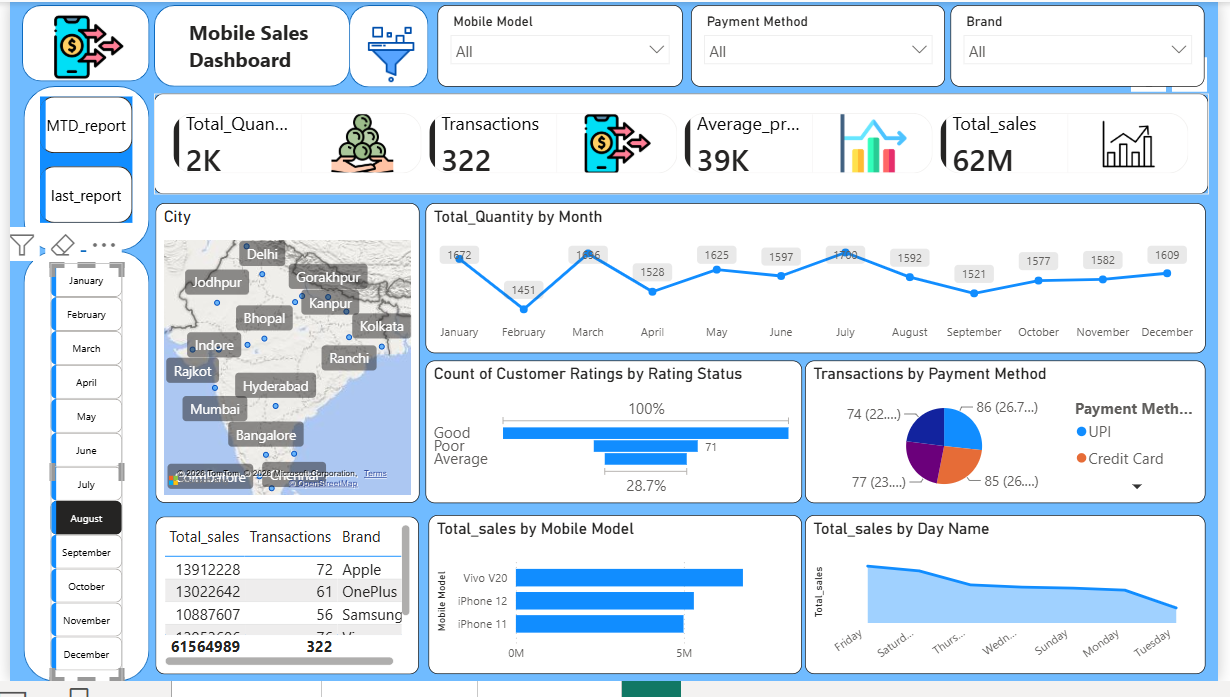

The dashboard page shown, as its layout file describes it:
{"tool":"powerbi","page":{"name":"Dashboard","canvas":[1280,720],"ordinal":0},"visuals":[{"type":"shape","box":[12.7,3.2,135.2,81.1],"z":0},{"type":"image","box":[38.5,11.6,90.7,73.2],"z":1000},{"type":"shape","box":[14.3,264,133.6,456.5],"z":2000},{"type":"advancedSlicerVisual","fields":{"Values":["custom_calendor.Date.Variation.Date Hierarchy.Month"]},"box":[42.9,276.8,76.3,443.8],"z":3000},{"type":"cardVisual","fields":{"Data":["sales_data.Total_Quantity","sales_data.Transactions","sales_data.Average_price","sales_data.Total_sales"]},"box":[152.7,97,1118.2,106.6],"z":4000},{"type":"slicer","fields":{"Values":["sales_data.Mobile Model"]},"box":[452.6,3.9,260,86.7],"z":5000},{"type":"slicer","fields":{"Values":["sales_data.Payment Method"]},"box":[722.2,3.9,269.6,86.7],"z":6000},{"type":"slicer","fields":{"Values":["sales_data.Brand"]},"box":[997.6,3.9,269.6,86.7],"z":7000},{"type":"shape","box":[360.1,3.9,84.3,87.5],"z":8000},{"type":"image","box":[373.6,0,60.4,111.3],"z":9000},{"type":"shape","box":[152.7,3.2,208,86.7],"z":10000},{"type":"textbox","box":[184.9,11.6,142.5,73.2],"z":11000},{"type":"map","fields":{"Category":["sales_data.City"]},"box":[154.3,213.1,279.9,318.1],"z":12000},{"type":"lineChart","fields":{"Category":["custom_calendor.Date.Variation.Date Hierarchy.Month"],"Y":["sales_data.Total_Quantity"]},"box":[440.6,213.1,827.1,159.1],"z":13000},{"type":"funnel","fields":{"Category":["sales_data.Rating Status"],"Y":["CountNonNull(sales_data.Customer Ratings)"]},"box":[440.6,380.2,399.2,151.1],"z":14000},{"type":"pieChart","fields":{"Category":["sales_data.Payment Method"],"Y":["sales_data.Transactions"]},"box":[843,380.2,424.7,151.1],"z":15000},{"type":"shape","box":[14.3,89.1,133.6,175],"z":16000},{"type":"barChart","fields":{"Category":["sales_data.Mobile Model"],"Y":["sales_data.Total_sales"]},"box":[443.8,544,396.1,168.6],"z":17000},{"type":"areaChart","fields":{"Category":["sales_data.Day Name"],"Y":["sales_data.Total_sales"]},"box":[843,544,424.7,168.6],"z":18000},{"type":"tableEx","fields":{"Values":["sales_data.Total_sales","sales_data.Transactions","sales_data.Brand"]},"box":[154.3,545.6,279,167],"z":19000},{"type":"pageNavigator","box":[118,234,582,86],"z":20000},{"type":"pageNavigator","box":[32,100,98,134],"z":21000}]}

Visuals, with their boxes in screenshot pixels (x1, y1, x2, y2):
shape: [x1=18, y1=0, x2=147, y2=77]
image: [x1=43, y1=8, x2=129, y2=77]
shape: [x1=20, y1=247, x2=147, y2=680]
advancedSlicerVisual - custom_calendor.Date.Variation.Date Hierarchy.Month: [x1=47, y1=259, x2=119, y2=680]
cardVisual - sales_data.Total_Quantity x sales_data.Transactions: [x1=151, y1=89, x2=1211, y2=190]
slicer - sales_data.Mobile Model: [x1=435, y1=0, x2=682, y2=83]
slicer - sales_data.Payment Method: [x1=691, y1=0, x2=946, y2=83]
slicer - sales_data.Brand: [x1=952, y1=0, x2=1207, y2=83]
shape: [x1=348, y1=0, x2=428, y2=83]
image: [x1=360, y1=0, x2=418, y2=102]
shape: [x1=151, y1=0, x2=348, y2=82]
textbox: [x1=182, y1=8, x2=317, y2=77]
map - sales_data.City: [x1=153, y1=199, x2=418, y2=500]
lineChart - custom_calendor.Date.Variation.Date Hierarchy.Month x sales_data.Total_Quantity: [x1=424, y1=199, x2=1208, y2=350]
funnel - sales_data.Rating Status x CountNonNull(sales_data.Customer Ratings): [x1=424, y1=357, x2=802, y2=500]
pieChart - sales_data.Payment Method x sales_data.Transactions: [x1=805, y1=357, x2=1208, y2=500]
shape: [x1=20, y1=81, x2=147, y2=247]
barChart - sales_data.Mobile Model x sales_data.Total_sales: [x1=427, y1=512, x2=802, y2=672]
areaChart - sales_data.Day Name x sales_data.Total_sales: [x1=805, y1=512, x2=1208, y2=672]
tableEx - sales_data.Total_sales x sales_data.Transactions: [x1=153, y1=514, x2=417, y2=672]
pageNavigator: [x1=118, y1=219, x2=670, y2=300]
pageNavigator: [x1=37, y1=92, x2=130, y2=219]
